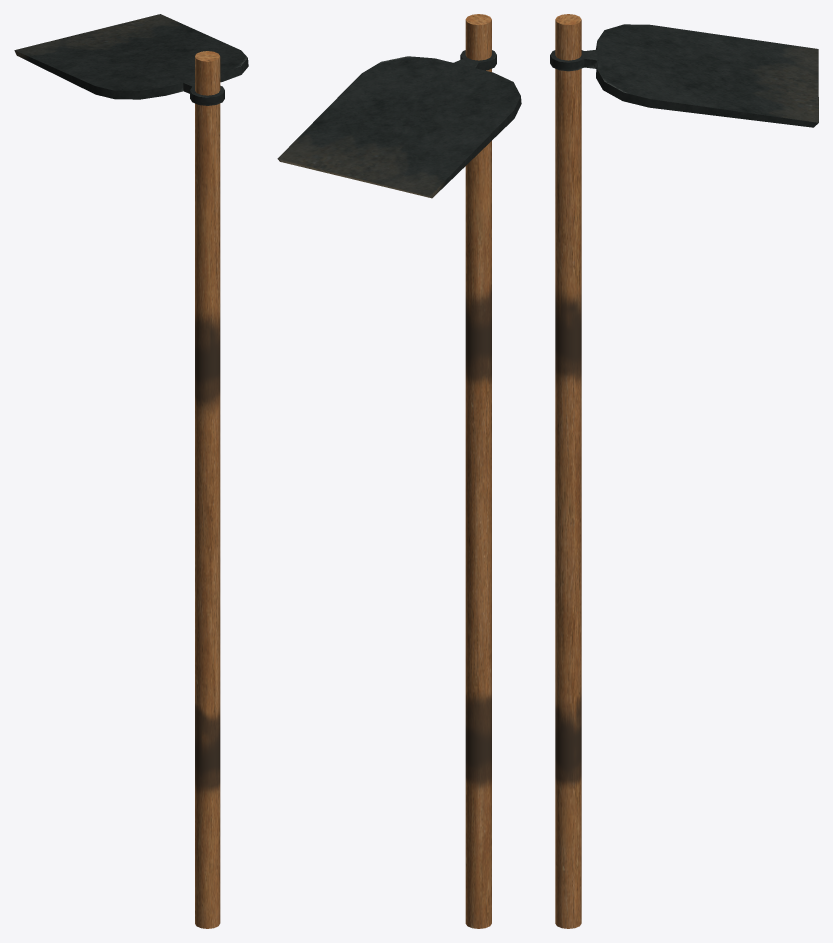
File: FarmEquip_Hoe.fbx
3 views of the same model, side by side, from view 1: azimuth 30°, elevation 25°; view 2: azimuth 150°, elevation 25°; view 3: azimuth 270°, elevation 25° (orthographic). The views are drawn at different scales.
Visible parts, largest first — view 1: FarmEquip_Hoe; view 2: FarmEquip_Hoe; view 3: FarmEquip_Hoe.
Part boxes in pixels (box(x1,y1,x2,y2)): FarmEquip_Hoe: box(14, 14, 248, 928); FarmEquip_Hoe: box(277, 14, 521, 928); FarmEquip_Hoe: box(550, 14, 818, 928).
Bounding box in the file's own units: 0.1848 × 1.05 × 0.2822.
